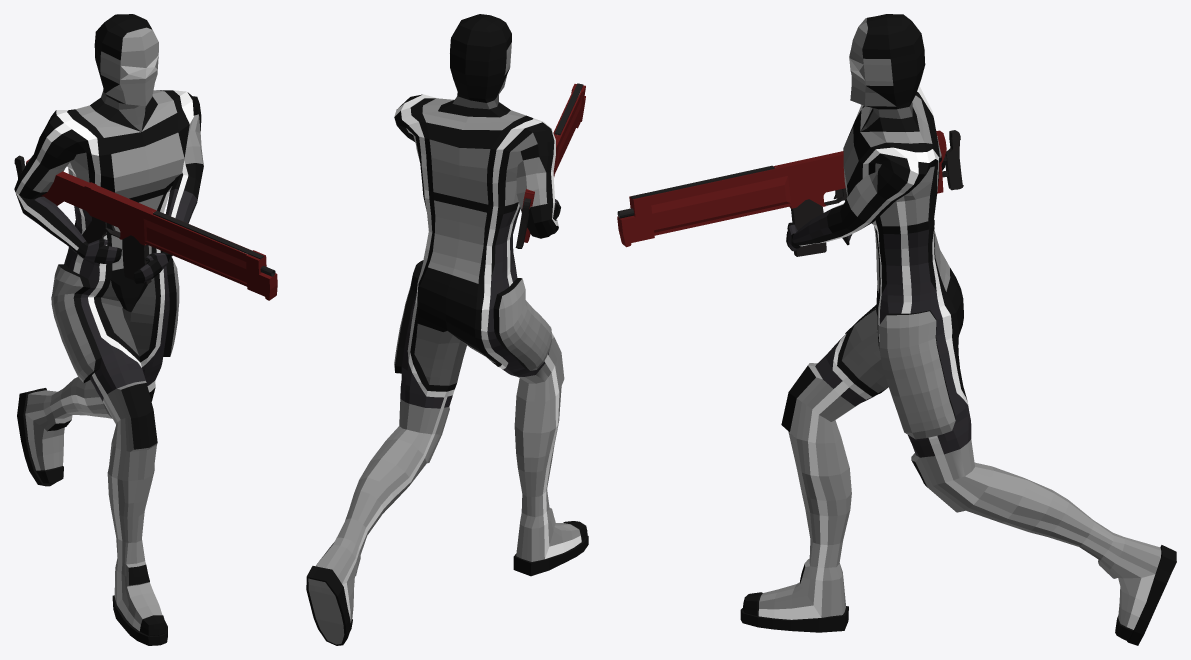
The model's file is TKR4.obj.
3 views of the same model, side by side, from view 1: azimuth 30°, elevation 25°; view 2: azimuth 150°, elevation 25°; view 3: azimuth 270°, elevation 25° (orthographic). The views are drawn at different scales.
Visible parts, largest first — view 1: metarig_object_metarig_mesh, Cube.001; view 2: metarig_object_metarig_mesh, Cube.001; view 3: metarig_object_metarig_mesh, Cube.001.
Part boxes in pixels (<box>): metarig_object_metarig_mesh: <box>14,14,203,645</box>; Cube.001: <box>14,155,277,300</box>; metarig_object_metarig_mesh: <box>306,14,588,645</box>; Cube.001: <box>515,83,585,248</box>; metarig_object_metarig_mesh: <box>740,14,1176,645</box>; Cube.001: <box>617,130,963,256</box>.
Size of the model in its own units: 0.5078 by 1.64 by 1.34.
Materials: 2 (2 with a texture image).
